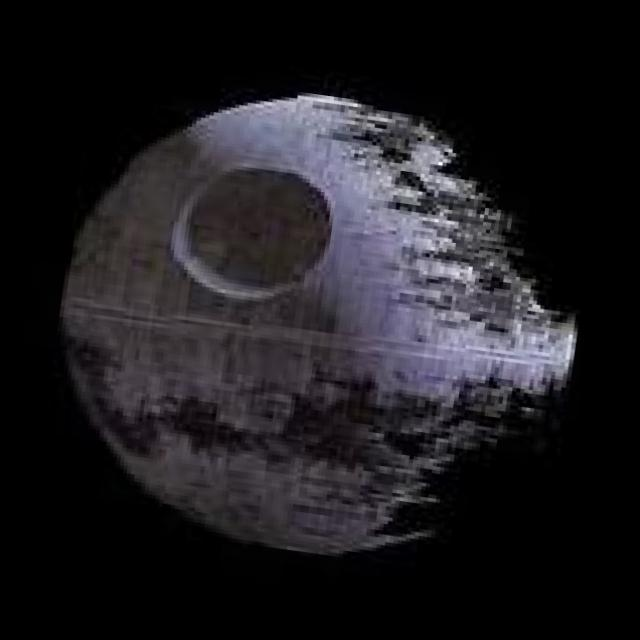Death Star: (21, 54, 618, 594)
